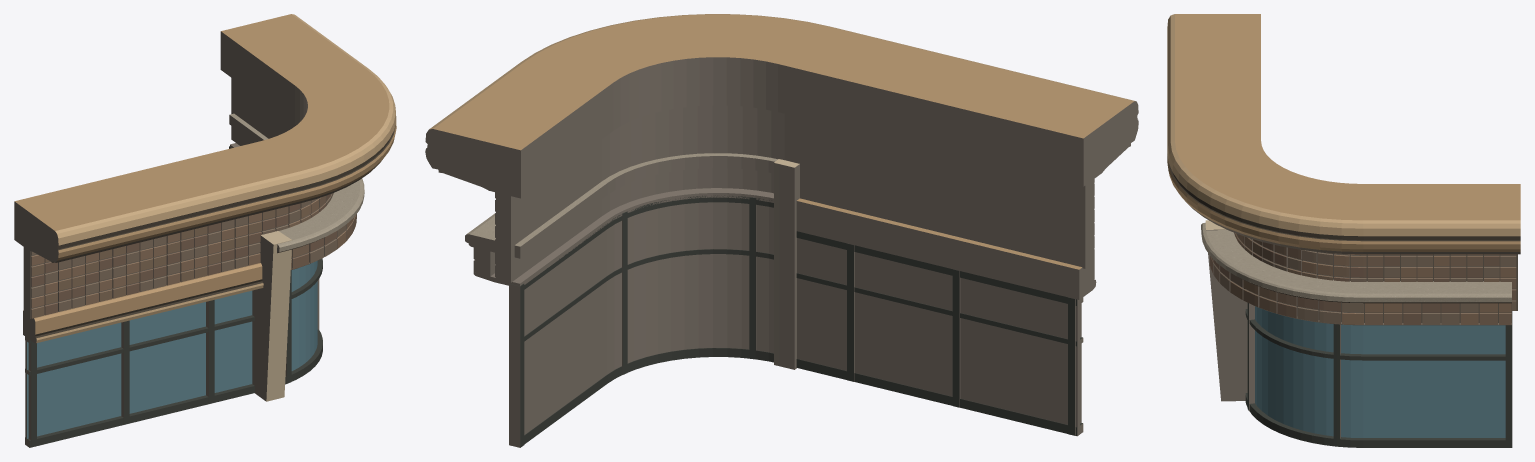
The model's file is xuhui-wuxing-96-curved-cornice-lod.glb.
3 renders of one model, left to right at view 1: azimuth 30°, elevation 25°; view 2: azimuth 150°, elevation 25°; view 3: azimuth 270°, elevation 25°, orthographic. The views are drawn at different scales.
Visible parts, largest first — view 1: 吴兴路96号花园住宅圆角檐口与窗罩; view 2: 吴兴路96号花园住宅圆角檐口与窗罩; view 3: 吴兴路96号花园住宅圆角檐口与窗罩.
Part boxes in pixels (bbox=[...]): 吴兴路96号花园住宅圆角檐口与窗罩: bbox=[14, 14, 396, 447]; 吴兴路96号花园住宅圆角檐口与窗罩: bbox=[425, 14, 1138, 447]; 吴兴路96号花园住宅圆角檐口与窗罩: bbox=[1167, 14, 1520, 447].
Size of the model in its own units: 2.15 by 1.23 by 1.53.
14 materials, 1 textured.
